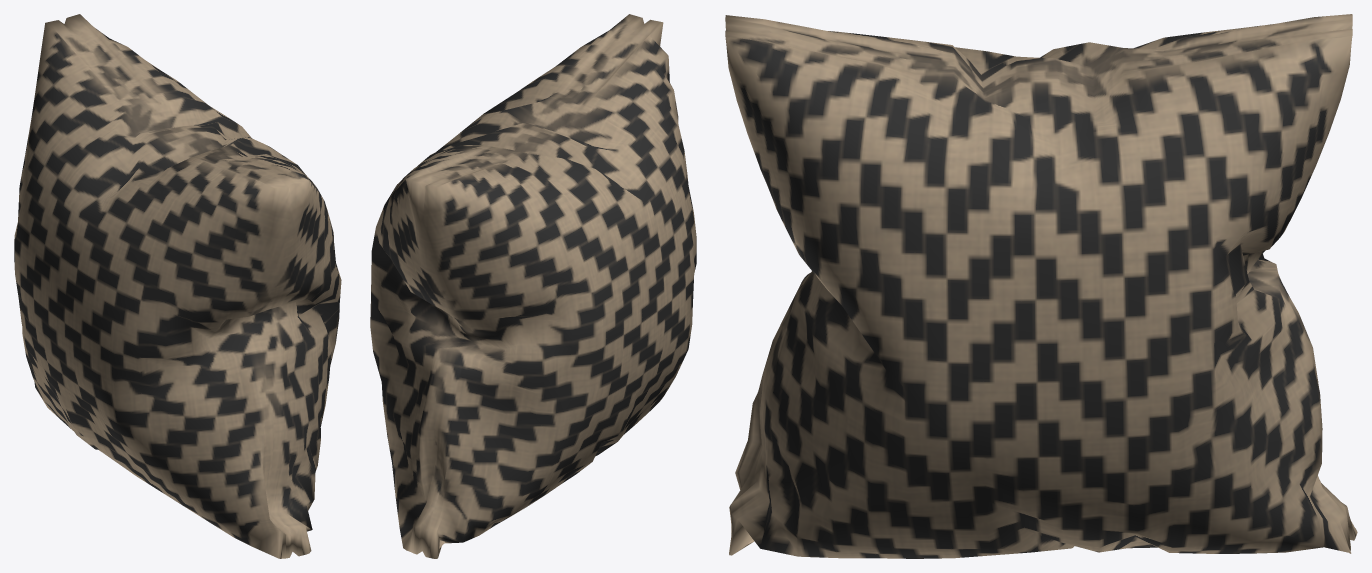
The model's file is rugs_and_pillows_pillow_tan.fbx.
3 views of the same model, side by side, from view 1: azimuth 30°, elevation 25°; view 2: azimuth 150°, elevation 25°; view 3: azimuth 270°, elevation 25° (orthographic). The views are drawn at different scales.
Parts seen in each view (by area): view 1: Plane.018; view 2: Plane.018; view 3: Plane.018.
Part boxes in pixels (<box>): Plane.018: <box>14,14,341,558</box>; Plane.018: <box>370,14,696,558</box>; Plane.018: <box>725,14,1357,558</box>.
Size of the model in its own units: 35.65 by 54.2 by 59.82.
